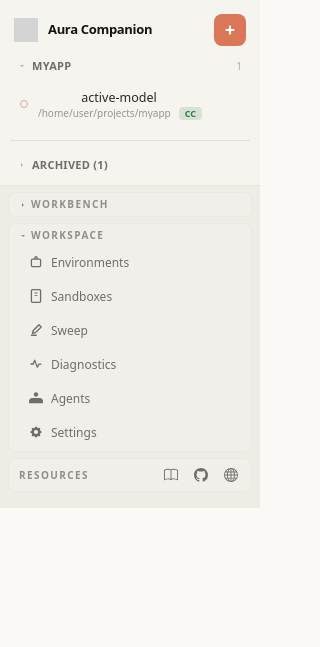
Test case: Sidebar › toggle archived shows/hides archived sessions
Expected: the text "archived-model" is not shown
# Click the archived toggle button
Click the button "Archived (1)": click(130, 165) [10,153,250,177]
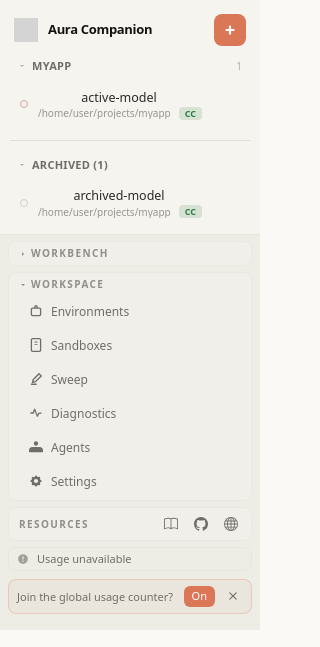
Expected: the text "archived-model" is shown, [73,187,165,204]
